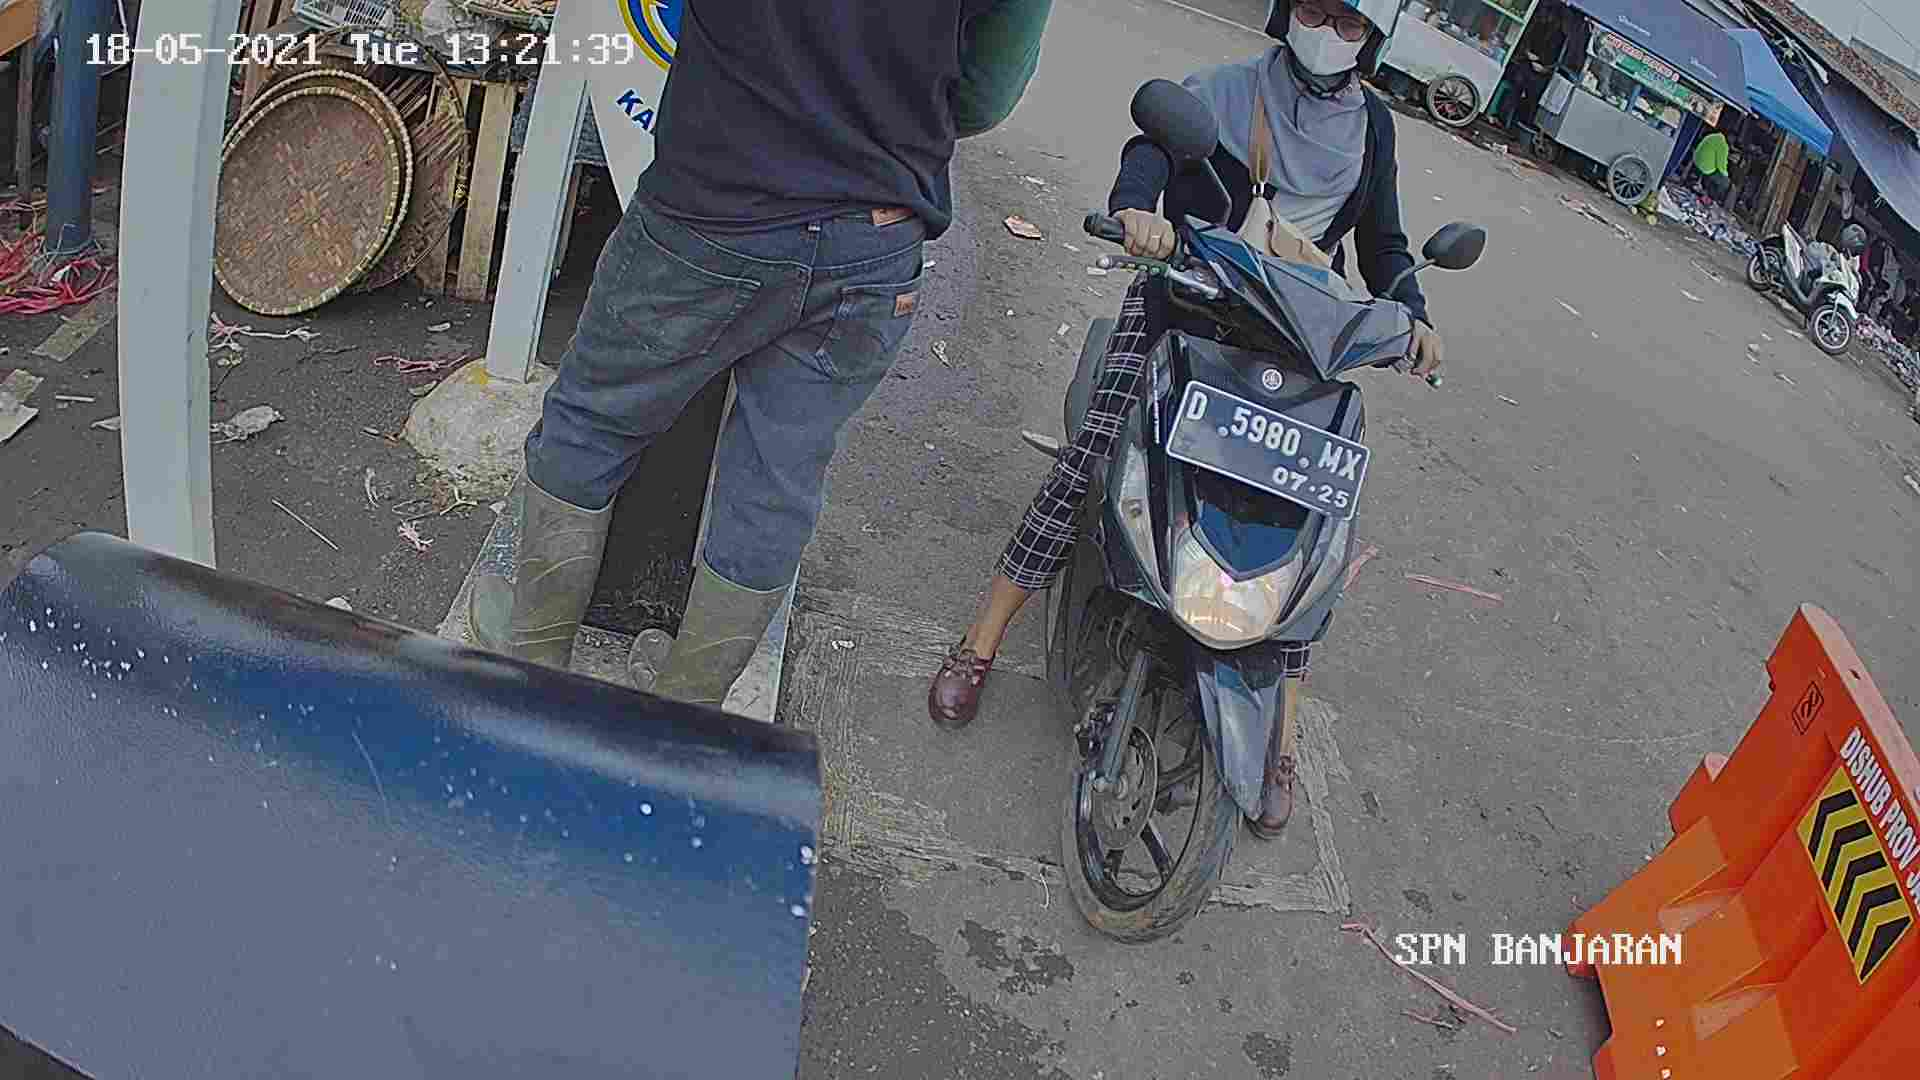motor: (1033, 131, 1472, 1001)
